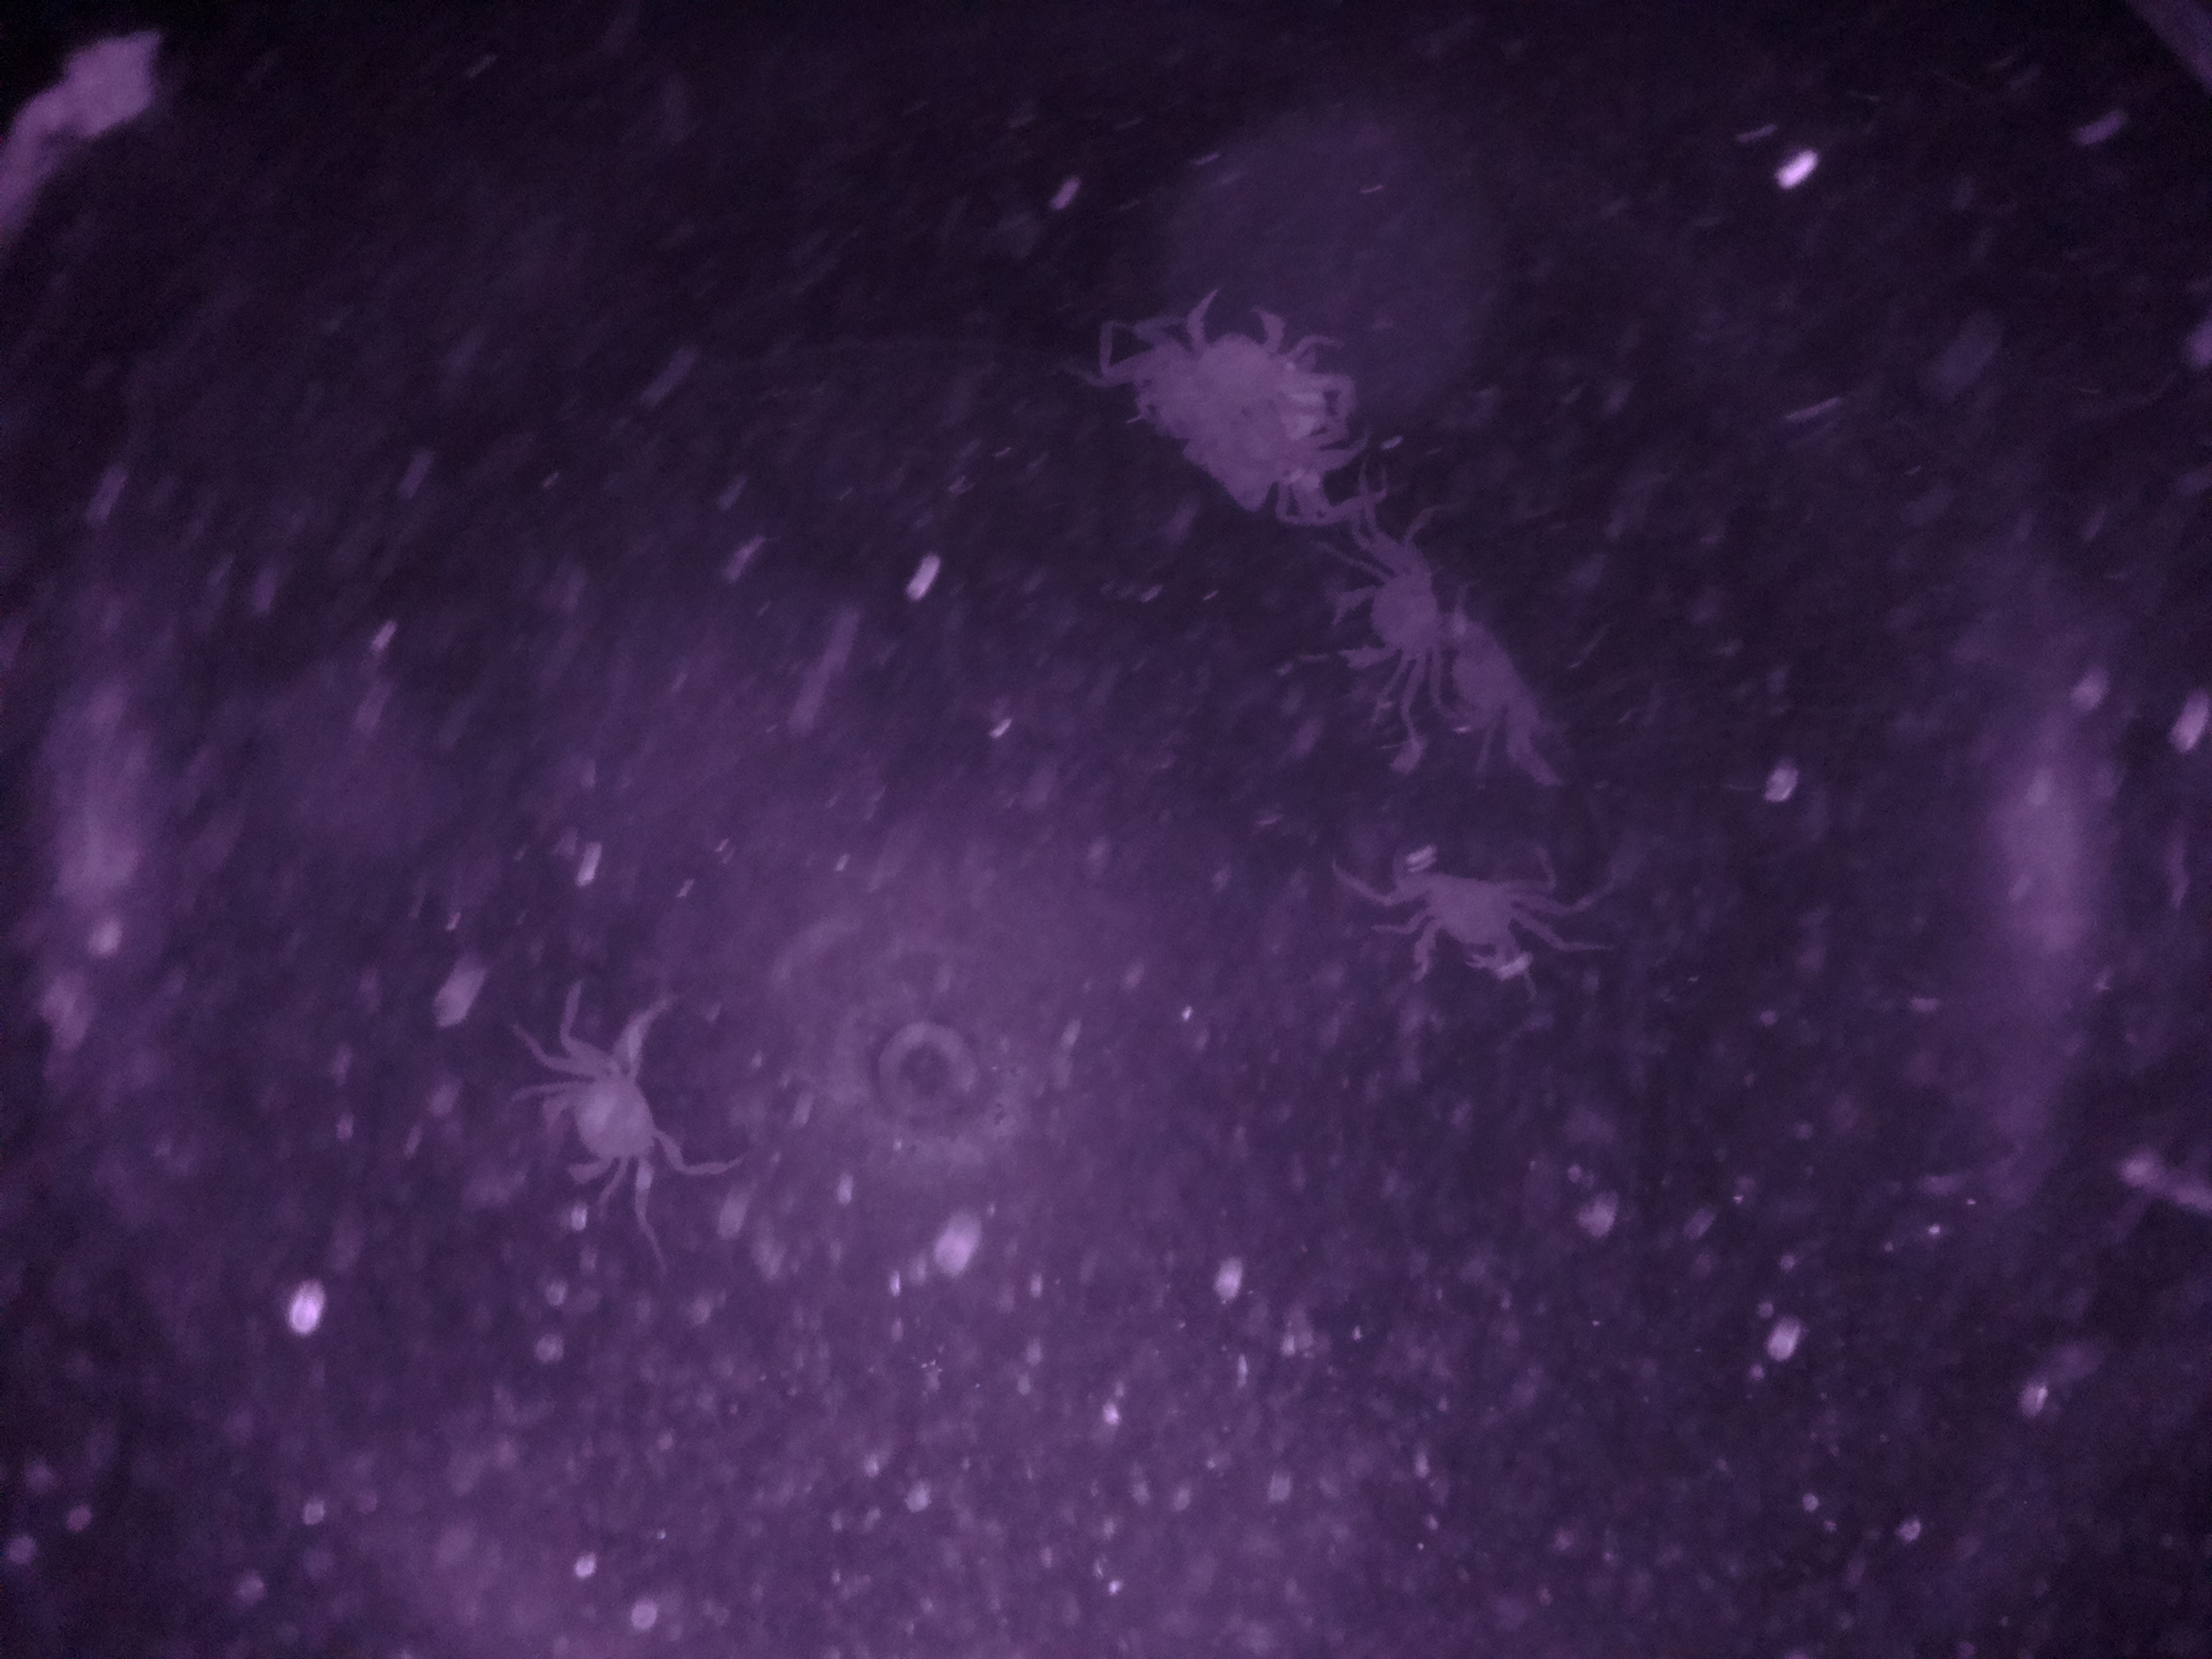Crab: (514, 1033, 702, 1209), (1320, 523, 1460, 704), (1390, 854, 1585, 978)
